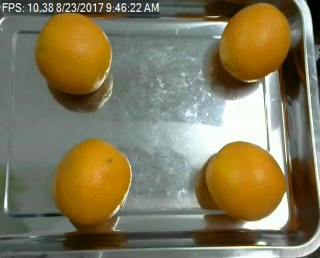Orange: (50, 137, 134, 224), (204, 140, 287, 219), (34, 11, 111, 93), (219, 2, 291, 82)
